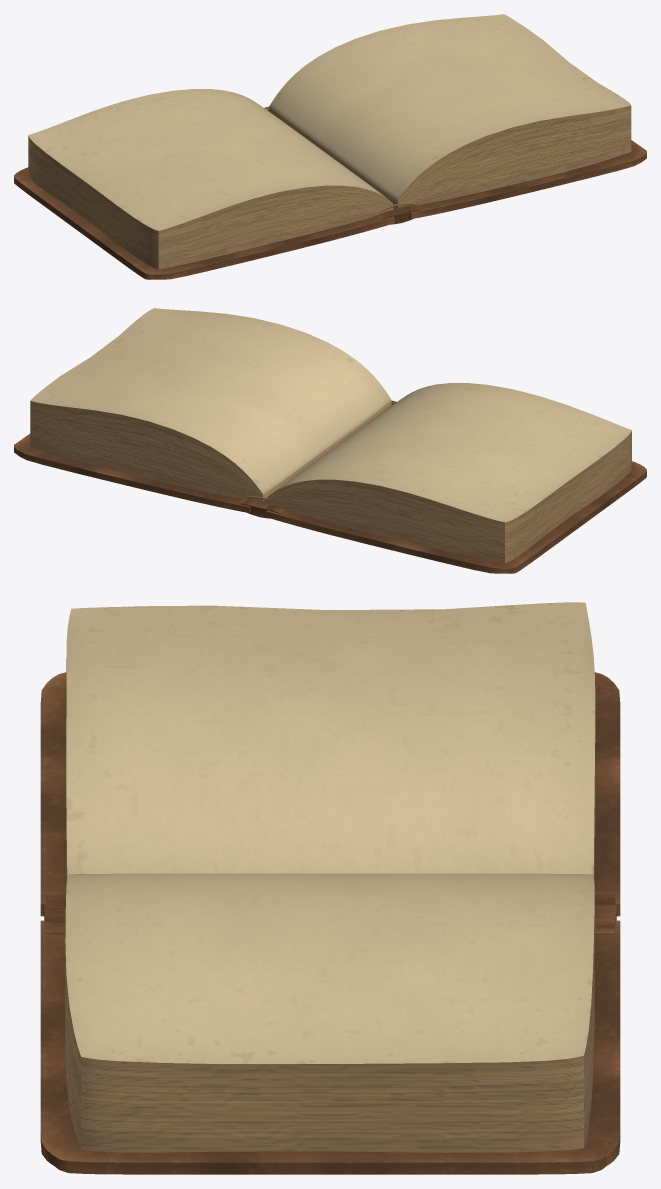
The model's file is OpenBook_05.fbx.
The picture shows the model from 3 angles, top to bottom: view 1: azimuth 30°, elevation 25°; view 2: azimuth 150°, elevation 25°; view 3: azimuth 270°, elevation 25°; orthographic projection. The views are drawn at different scales.
Parts seen in each view (by area): view 1: OpenBook_05.001; view 2: OpenBook_05.001; view 3: OpenBook_05.001.
Boxes of the visible parts, x1=… form: OpenBook_05.001: x1=14, y1=14, x2=646, y2=279; OpenBook_05.001: x1=14, y1=308, x2=646, y2=573; OpenBook_05.001: x1=40, y1=602, x2=620, y2=1174.
Bounding box in the file's own units: 0.478 × 0.0577 × 0.239.
